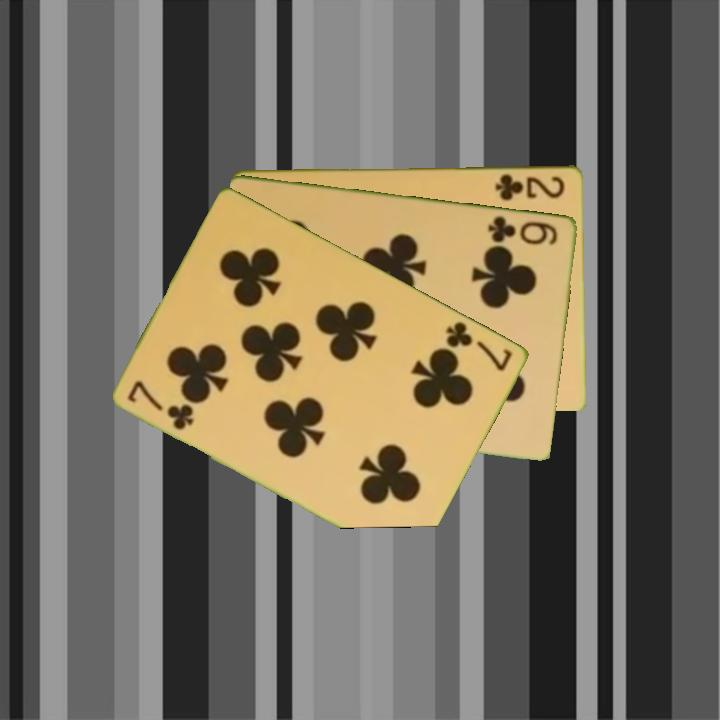2c: (492, 169, 568, 203)
6c: (485, 211, 561, 247)
7c: (124, 376, 198, 433), (442, 318, 517, 374)
